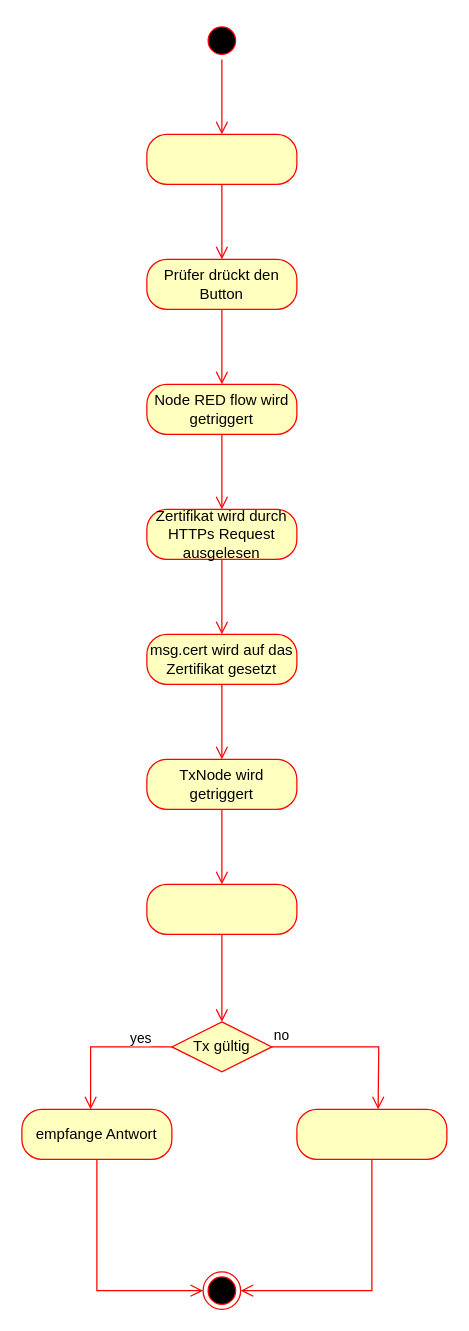
Some shapes in this 469 by 1331 pixel diagram are drawn without their labels. The shapes that lost their labels are listed below. From the top down, each one's centre as x and y in pixels, then its label:
the point at 221,158: Prüfer steckt den Key in den RFID Reader
the point at 221,908: TxNode feuert Transaktion
the point at 371,1133: empfange Fehler
